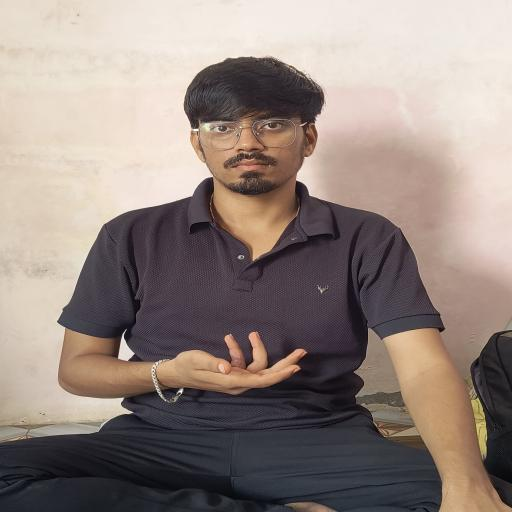Help: (143, 316, 335, 420)
